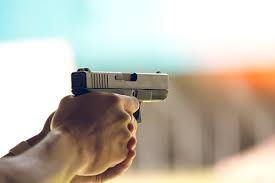gun: (67, 67, 170, 180)
